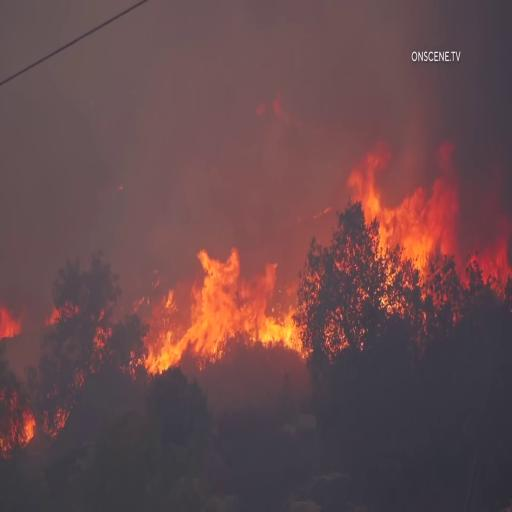fire: (359, 148, 458, 254), (179, 248, 276, 350)
smoke: (0, 7, 231, 245)
